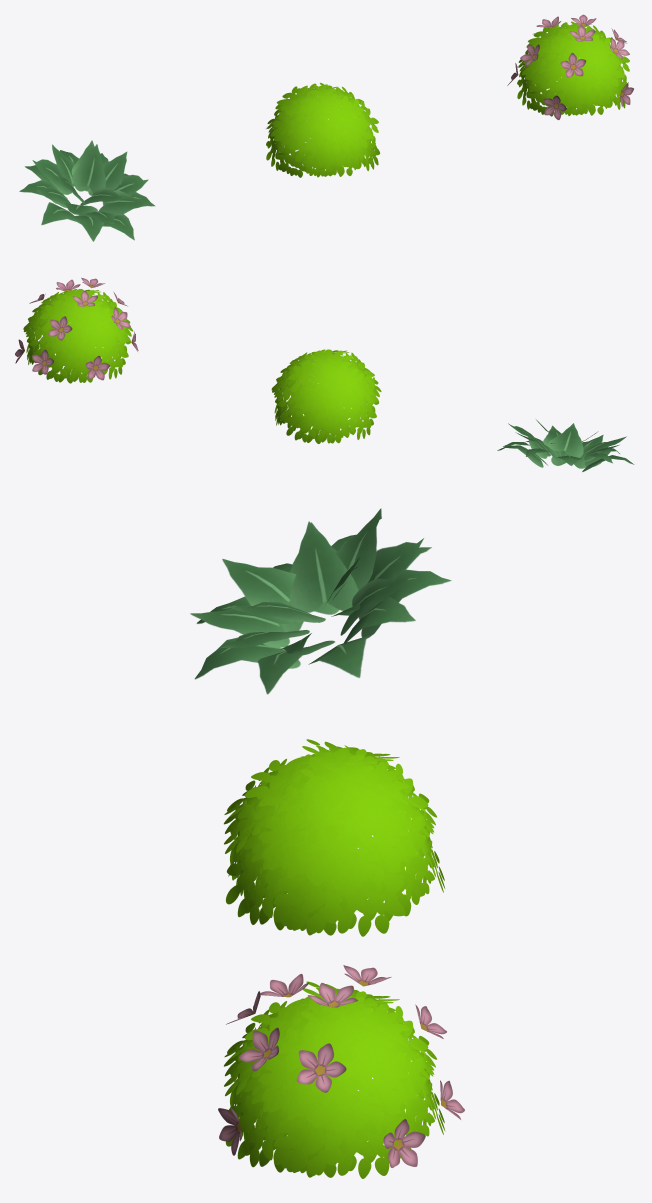
File: bush.glb
3 renders of one model, top to bottom at view 1: azimuth 30°, elevation 25°; view 2: azimuth 150°, elevation 25°; view 3: azimuth 270°, elevation 25°, orthographic. The views are drawn at different scales.
Parts seen in each view (by area): view 1: Bush, Plant_1; view 2: Bush, Plant_1; view 3: Bush, Plant_1.
Part boxes in pixels (x1=…): Bush: x1=266, y1=21, x2=629, y2=177; Plant_1: x1=19, y1=14, x2=633, y2=241; Bush: x1=23, y1=289, x2=381, y2=443; Plant_1: x1=15, y1=277, x2=634, y2=471; Bush: x1=224, y1=739, x2=445, y2=1178; Plant_1: x1=190, y1=508, x2=464, y2=1167.
Bounding box in the file's own units: 6.03 × 0.7975 × 1.23.
Materials: 2 (2 with a texture image).
